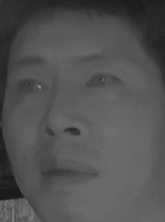eye: (83, 68, 123, 97), (14, 74, 49, 99)
mouth: (35, 151, 100, 193)
